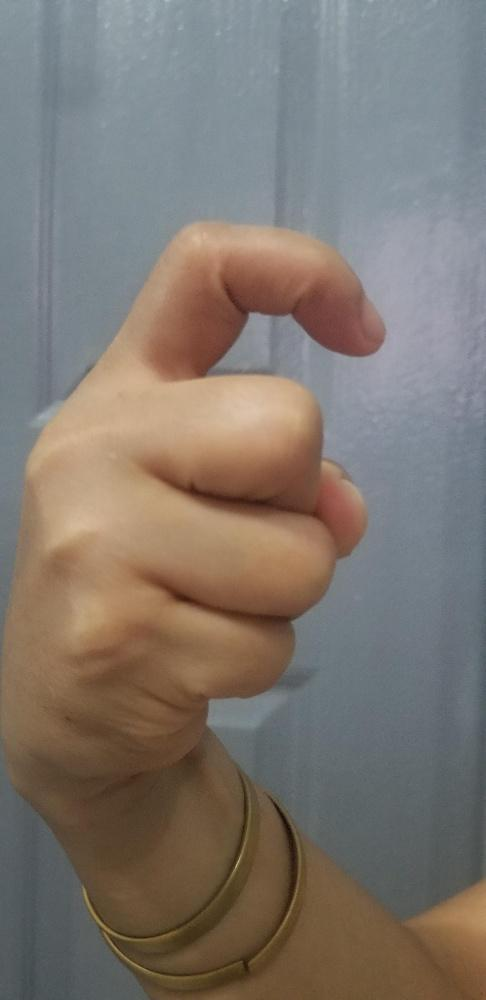x: (0, 215, 387, 797)
